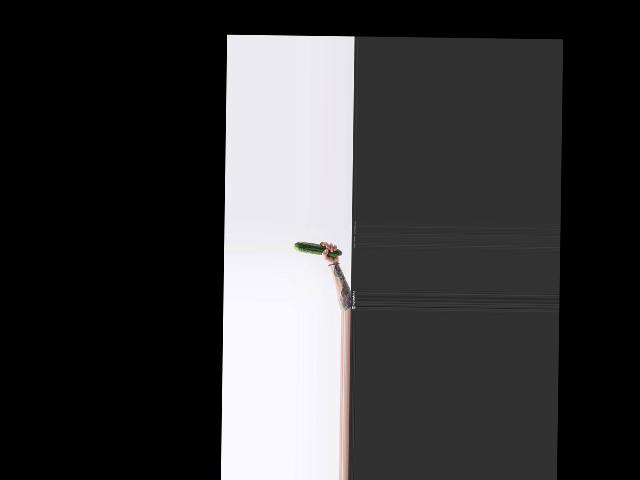cucumber: (293, 241, 341, 256)
